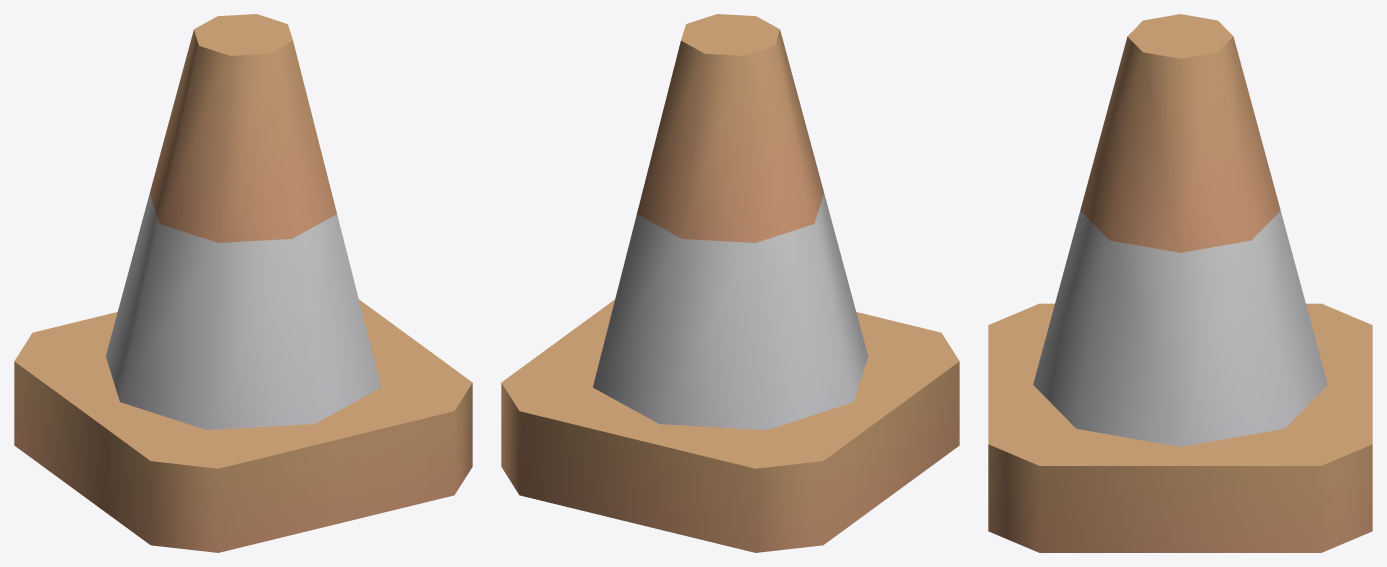
The model's file is traffic-cone.glb.
3 renders of one model, left to right at view 1: azimuth 30°, elevation 25°; view 2: azimuth 150°, elevation 25°; view 3: azimuth 270°, elevation 25°, orthographic. The views are drawn at different scales.
Parts seen in each view (by area): view 1: traffic-cone; view 2: traffic-cone; view 3: traffic-cone.
Boxes of the visible parts, left/top/right/bottom form: traffic-cone: left=14, top=14, right=472, bottom=552; traffic-cone: left=501, top=14, right=959, bottom=552; traffic-cone: left=988, top=14, right=1372, bottom=552.
Size of the model in its own units: 0.075 by 0.0938 by 0.075.
